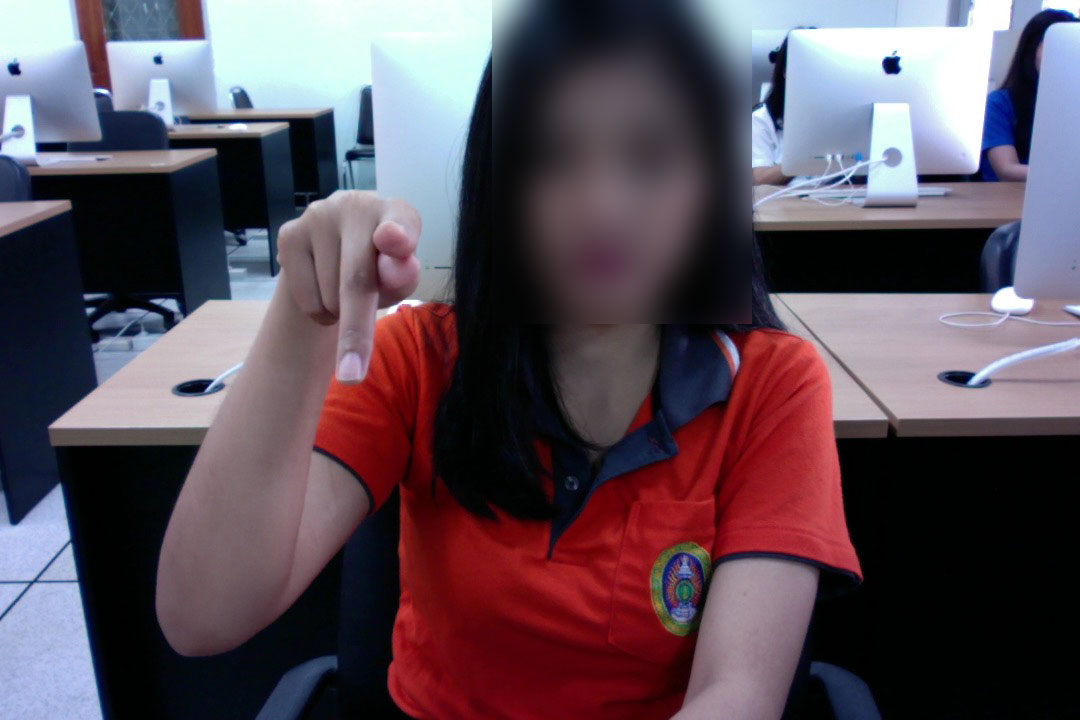por: (267, 174, 435, 387)
